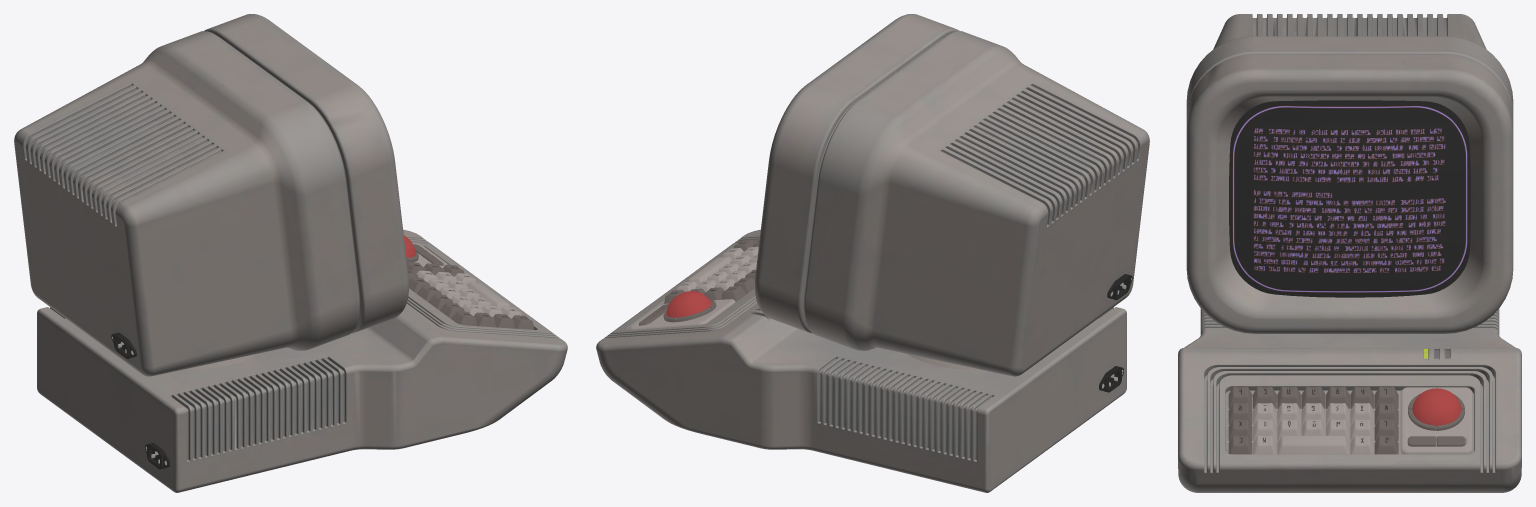
File: retro_computer.glb
3 views of the same model, side by side, from view 1: azimuth 30°, elevation 25°; view 2: azimuth 150°, elevation 25°; view 3: azimuth 270°, elevation 25° (orthographic). The views are drawn at different scales.
Parts seen in each view (by area): view 1: defaultMaterial (×2); view 2: defaultMaterial (×2); view 3: defaultMaterial (×2).
Boxes of the visible parts, bbox=[...] form: defaultMaterial (×2): bbox=[14, 14, 567, 492]; defaultMaterial (×2): bbox=[596, 14, 1149, 492]; defaultMaterial (×2): bbox=[1178, 14, 1521, 492].
Bounding box in the file's own units: 2 × 1.55 × 1.32.
2 materials, 2 textured.
